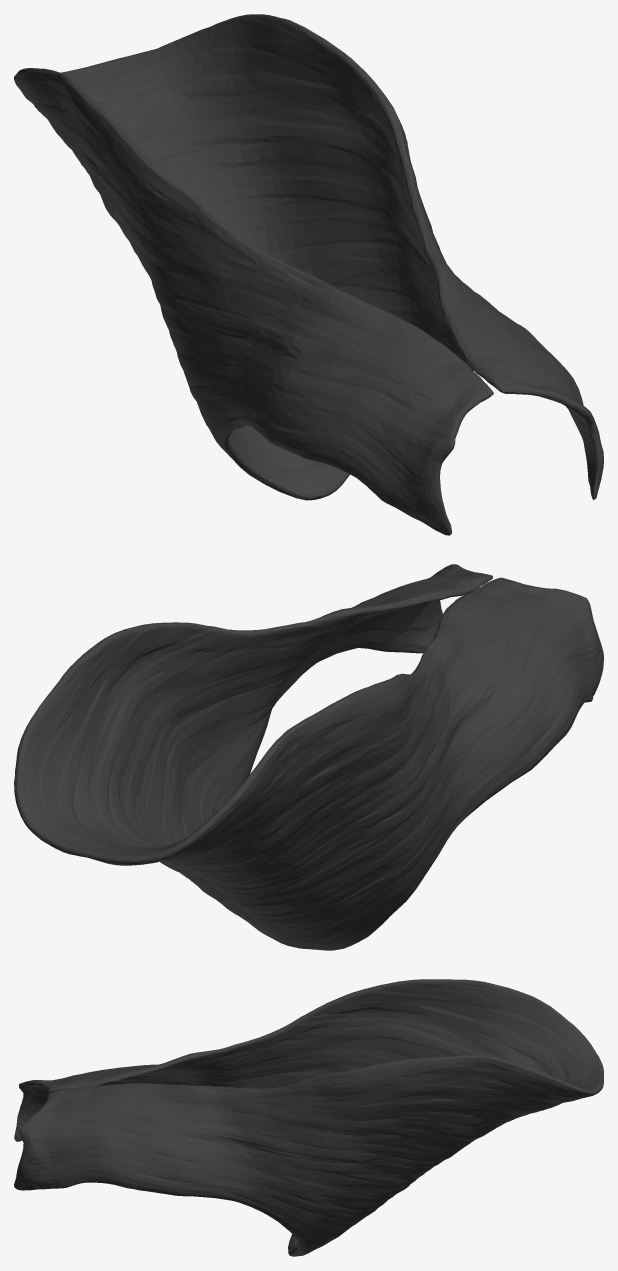
The model's file is m_platysma.glb.
3 renders of one model, top to bottom at view 1: azimuth 30°, elevation 25°; view 2: azimuth 150°, elevation 25°; view 3: azimuth 270°, elevation 25°, orthographic. The views are drawn at different scales.
Parts seen in each view (by area): view 1: m_platysma; view 2: m_platysma; view 3: m_platysma.
Part boxes in pixels (box(x1,y1,x2,y2)): m_platysma: box(14, 14, 603, 535); m_platysma: box(14, 564, 603, 950); m_platysma: box(14, 979, 603, 1256).
Bounding box in the file's own units: 0.00283 × 0.0035 × 0.00797.
Materials: 1 (1 with a texture image).
